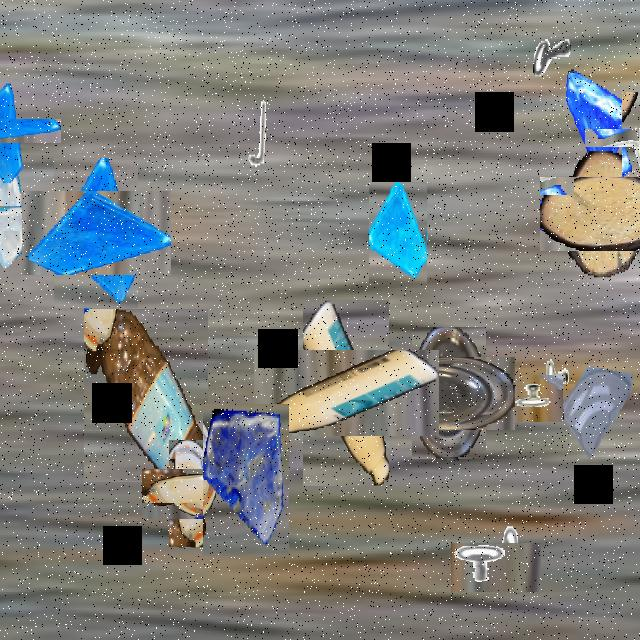glass: (38, 175, 154, 291), (203, 404, 289, 556), (563, 336, 635, 464), (562, 64, 632, 188), (369, 182, 427, 284), (0, 185, 46, 251), (0, 100, 42, 162)
metal: (461, 532, 531, 602), (520, 365, 588, 431), (236, 98, 276, 169), (533, 21, 571, 89), (603, 110, 640, 166)
plastic: (84, 310, 208, 483), (278, 325, 414, 461), (398, 342, 500, 444), (155, 455, 233, 533)
wood: (552, 163, 640, 263)
